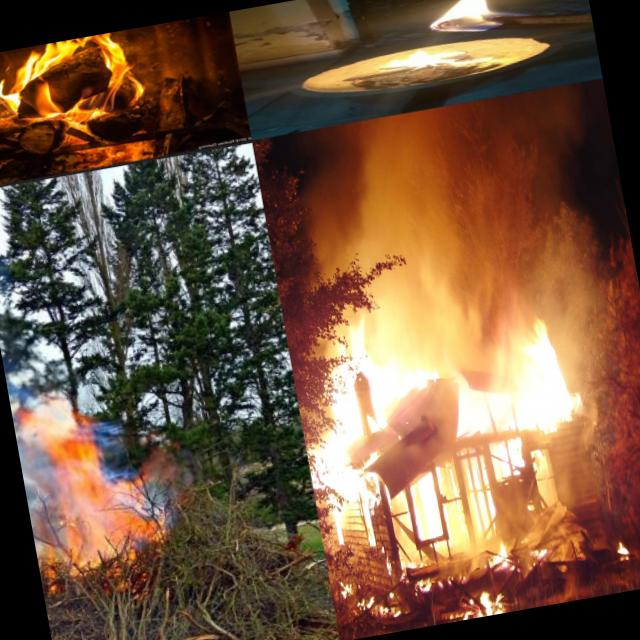fire: (290, 285, 608, 597), (23, 382, 156, 582), (0, 25, 163, 143), (410, 0, 546, 40), (336, 584, 414, 632), (403, 34, 468, 82), (454, 568, 514, 620), (603, 524, 640, 564)
smoke: (335, 80, 624, 319), (3, 361, 52, 554), (138, 447, 196, 522)
